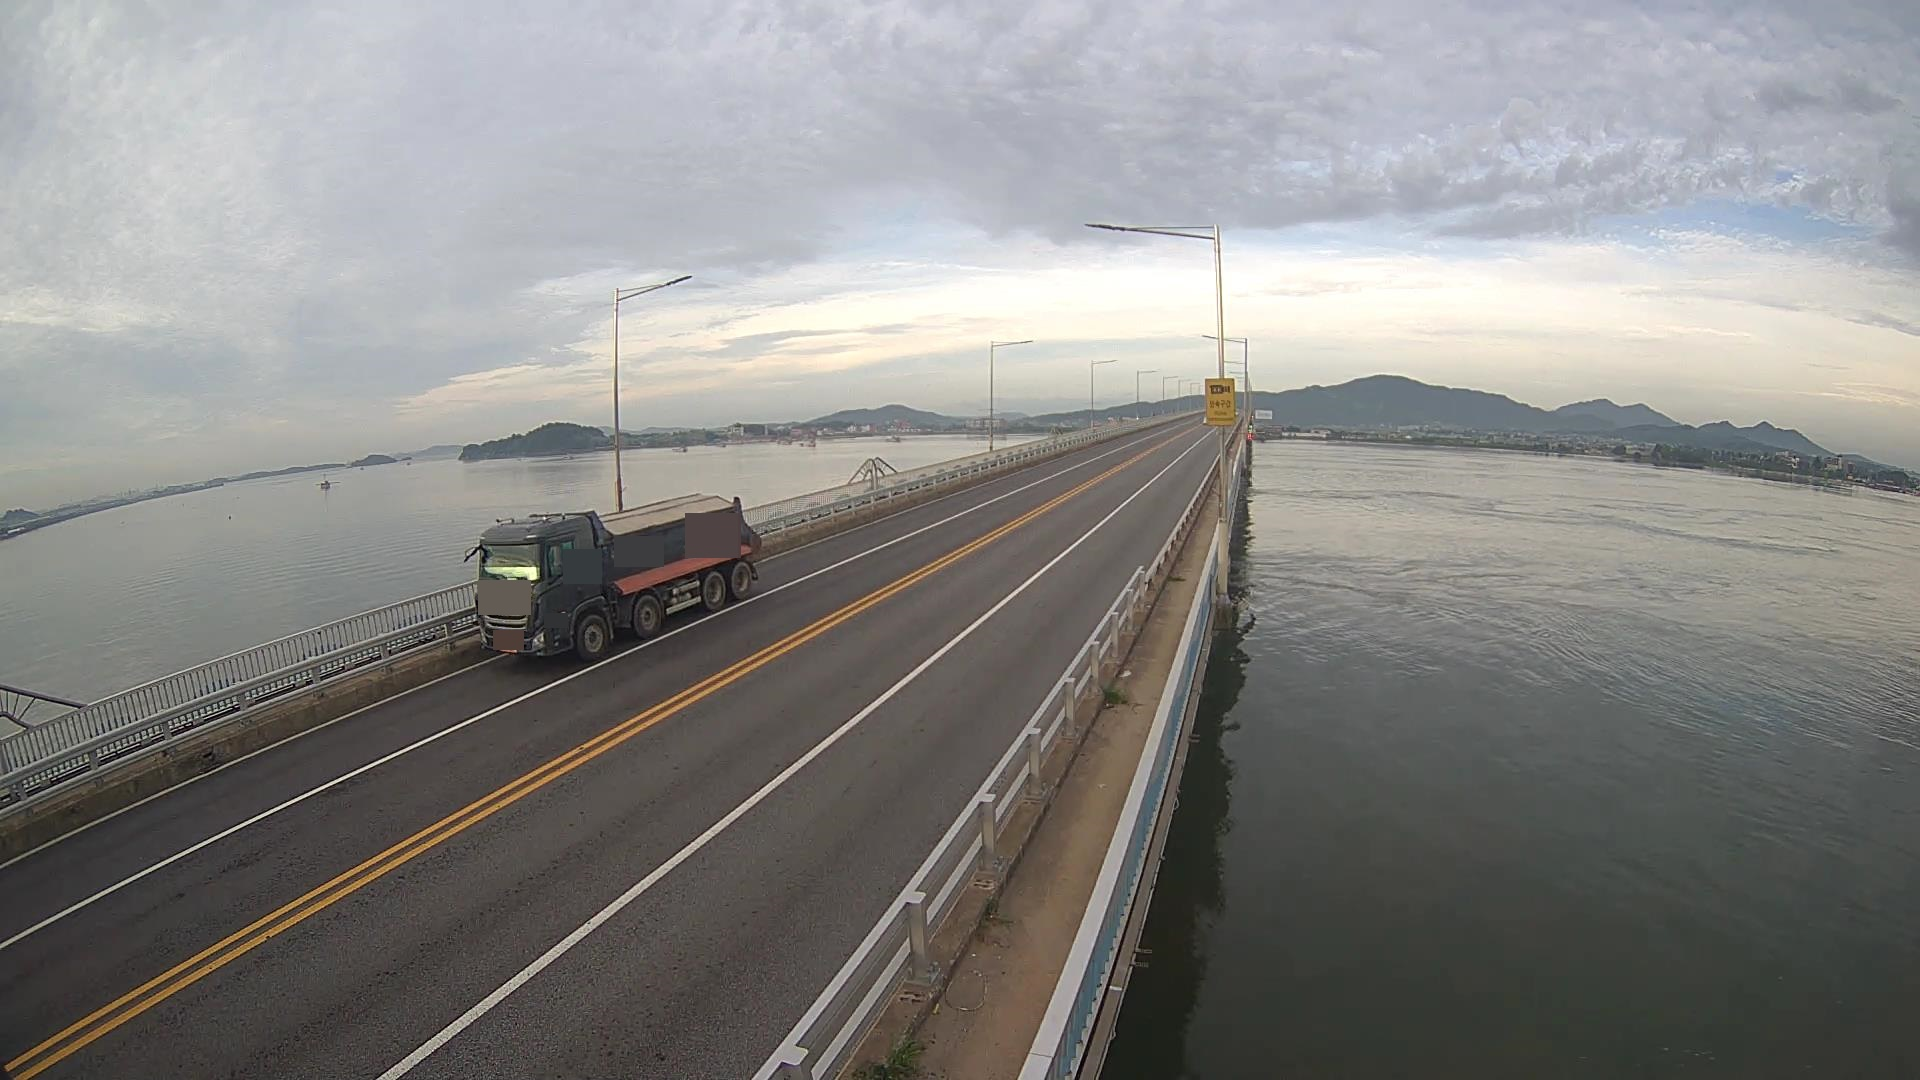정상차량: (464, 492, 762, 661)
